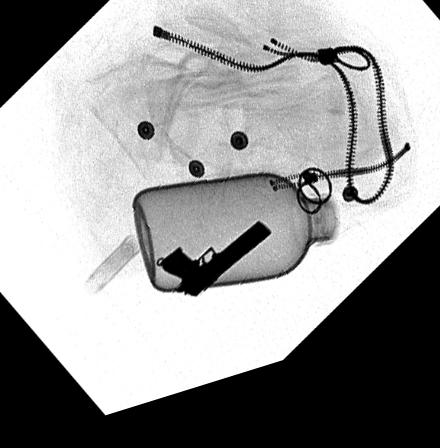Gun: (150, 238, 272, 309)
